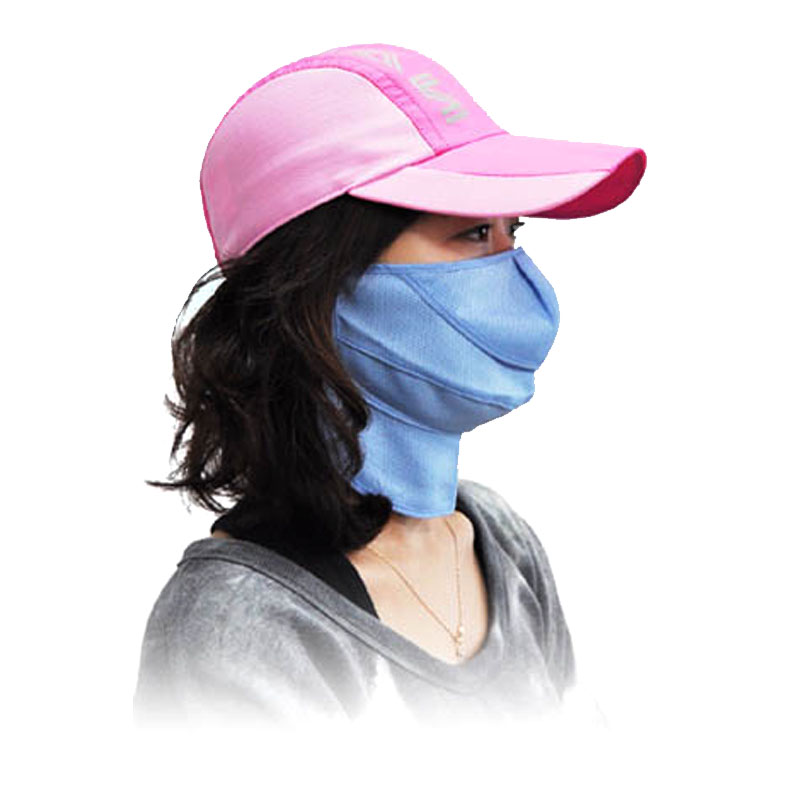face_mask: (344, 160, 538, 412)
